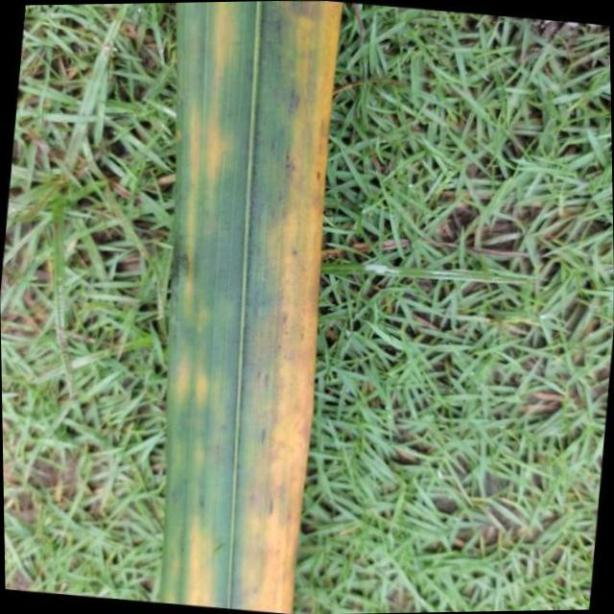Megnesium: (157, 0, 342, 614)
